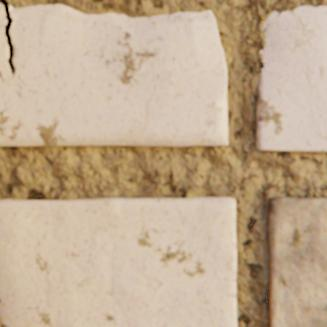brick: (0, 3, 226, 145), (0, 196, 235, 326), (255, 6, 326, 150), (267, 196, 326, 326)
crack: (0, 0, 13, 72)
